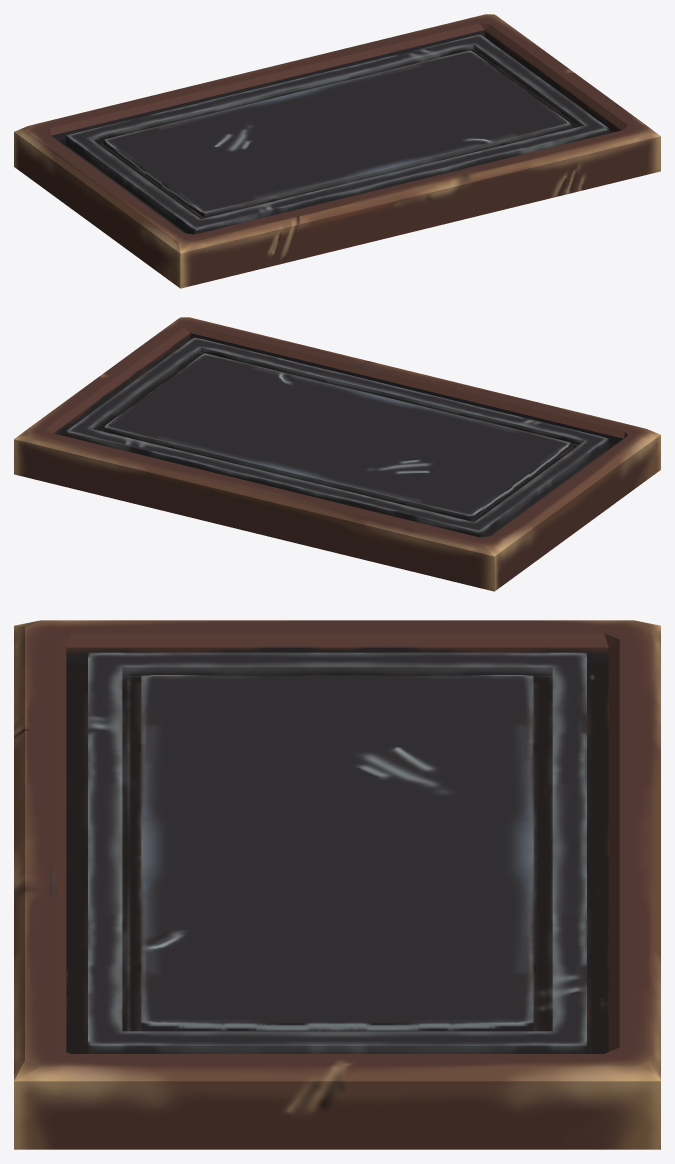
The model's file is BuildSpot.fbx.
3 renders of one model, top to bottom at view 1: azimuth 30°, elevation 25°; view 2: azimuth 150°, elevation 25°; view 3: azimuth 270°, elevation 25°, orthographic. The views are drawn at different scales.
Parts seen in each view (by area): view 1: Cube; view 2: Cube; view 3: Cube.
Part boxes in pixels (left/top/right/bottom): Cube: left=14, top=14, right=660, bottom=288; Cube: left=14, top=317, right=660, bottom=591; Cube: left=14, top=620, right=660, bottom=1149.
Size of the model in its own units: 500 by 40 by 300.
